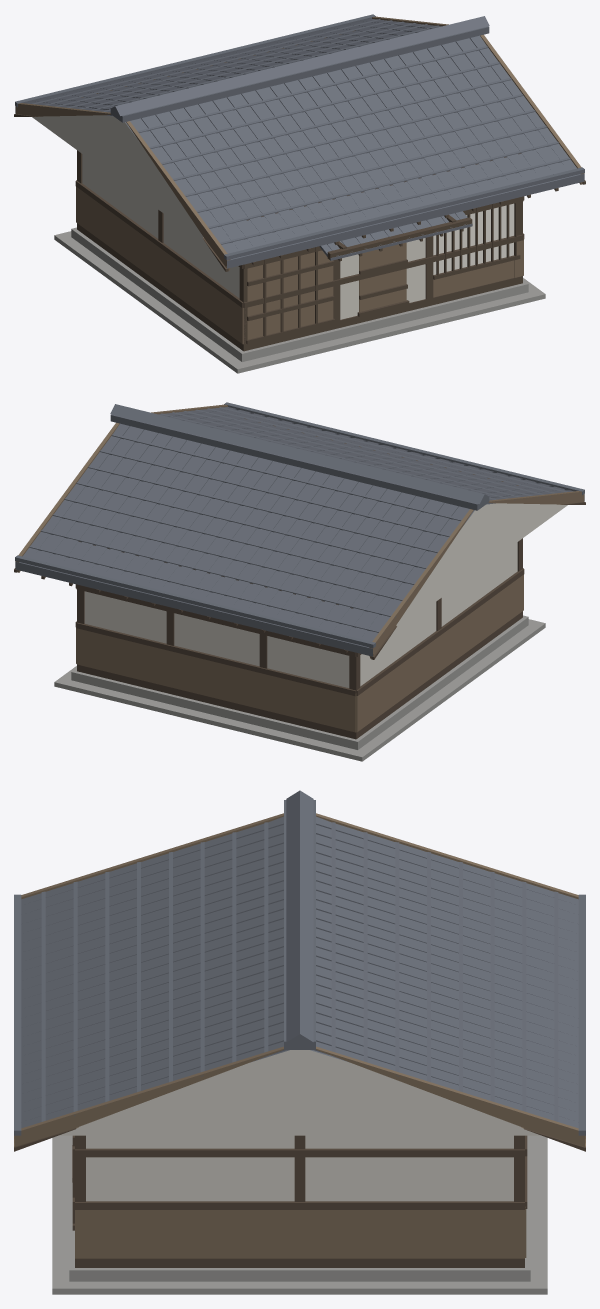
Rendered from pilot_silhouette_quiet_01.glb.
3 views of the same model, one above another, from view 1: azimuth 30°, elevation 25°; view 2: azimuth 150°, elevation 25°; view 3: azimuth 270°, elevation 25° (orthographic). The views are drawn at different scales.
Parts seen in each view (by area): view 1: pilot_silhouette_quiet_01; view 2: pilot_silhouette_quiet_01; view 3: pilot_silhouette_quiet_01.
Part boxes in pixels (left/top/right/bottom): pilot_silhouette_quiet_01: left=14, top=14, right=585, bottom=373; pilot_silhouette_quiet_01: left=14, top=402, right=585, bottom=761; pilot_silhouette_quiet_01: left=14, top=790, right=585, bottom=1294.
Bounding box in the file's own units: 7.94 × 4.27 × 7.88.
